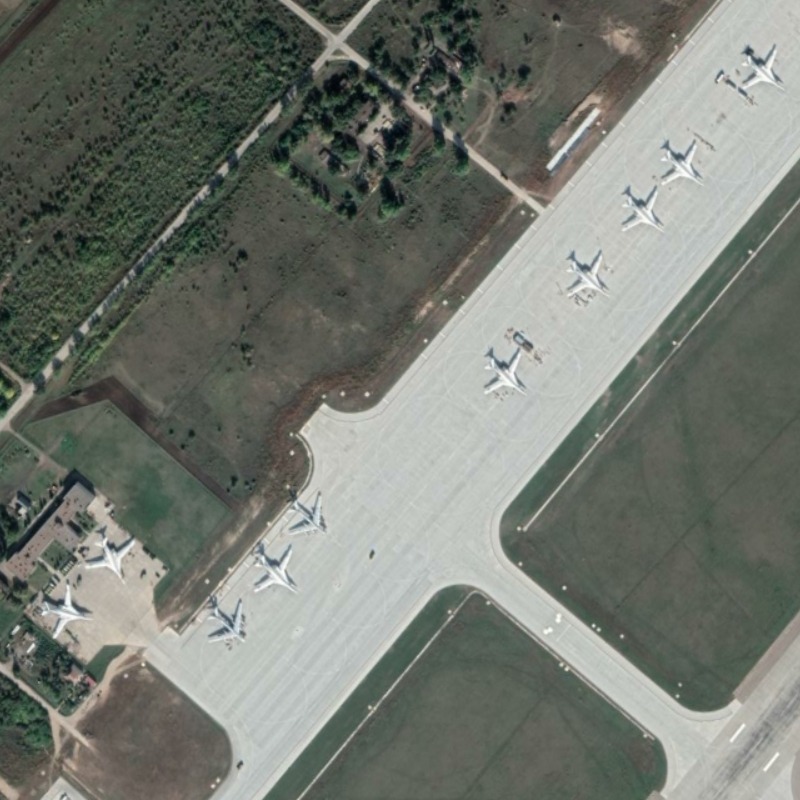A17: (202, 597, 250, 646), (281, 492, 329, 540)
A6: (37, 582, 94, 643), (81, 533, 141, 588), (249, 543, 302, 597), (477, 348, 531, 398), (658, 138, 707, 192), (618, 185, 666, 237), (563, 251, 612, 301), (735, 46, 785, 94)
